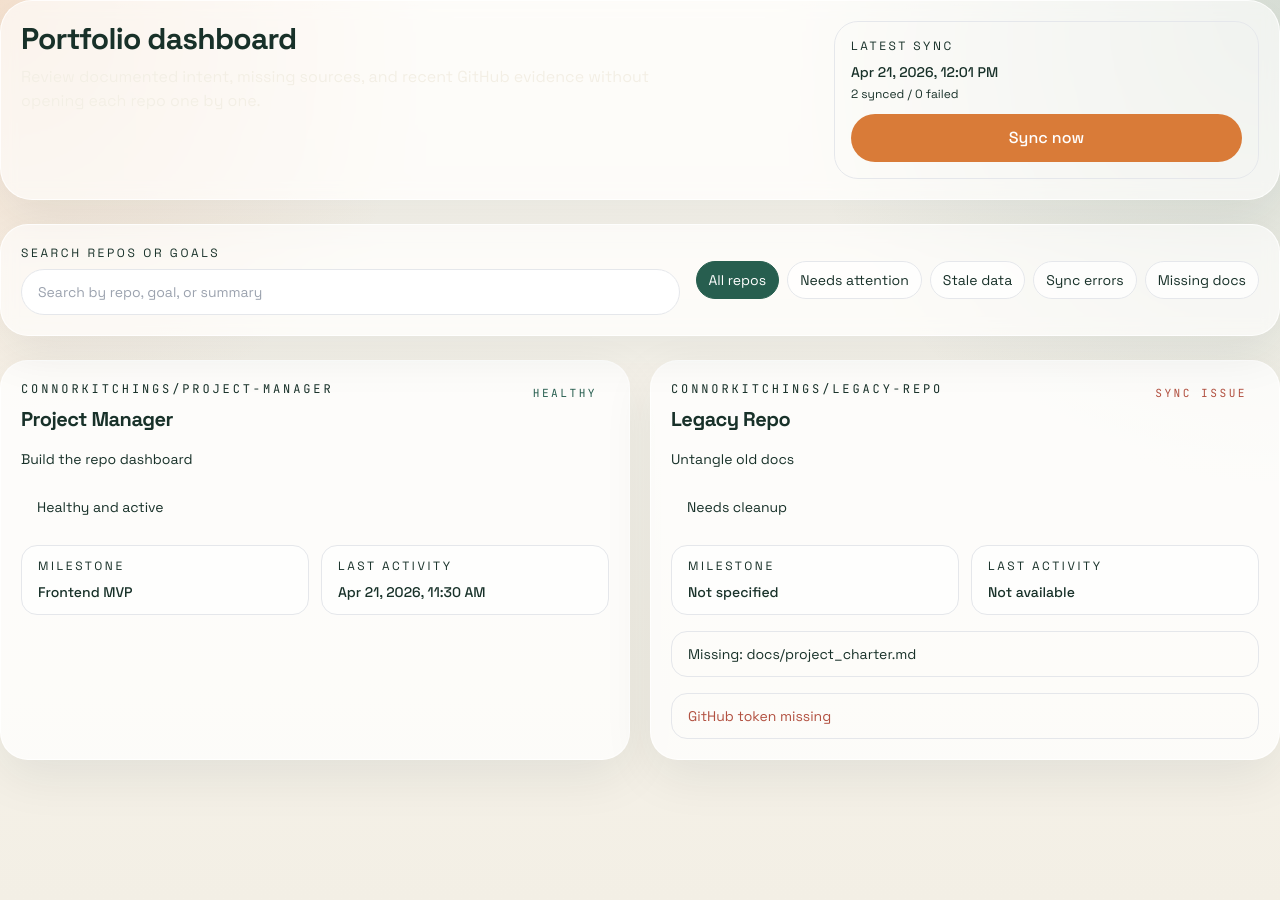
Scenario: DashboardPage › renders repo summaries and filters attention states
Expected: the heading "Project Manager" is shown, [21,406,173,432]
Expected: the heading "Legacy Repo" is shown, [671,406,790,432]
What coordinates should you click on to do the following:
click the button "Needs attention"
I would click on:
 (854, 280)
Its box is [787,261,922,299].
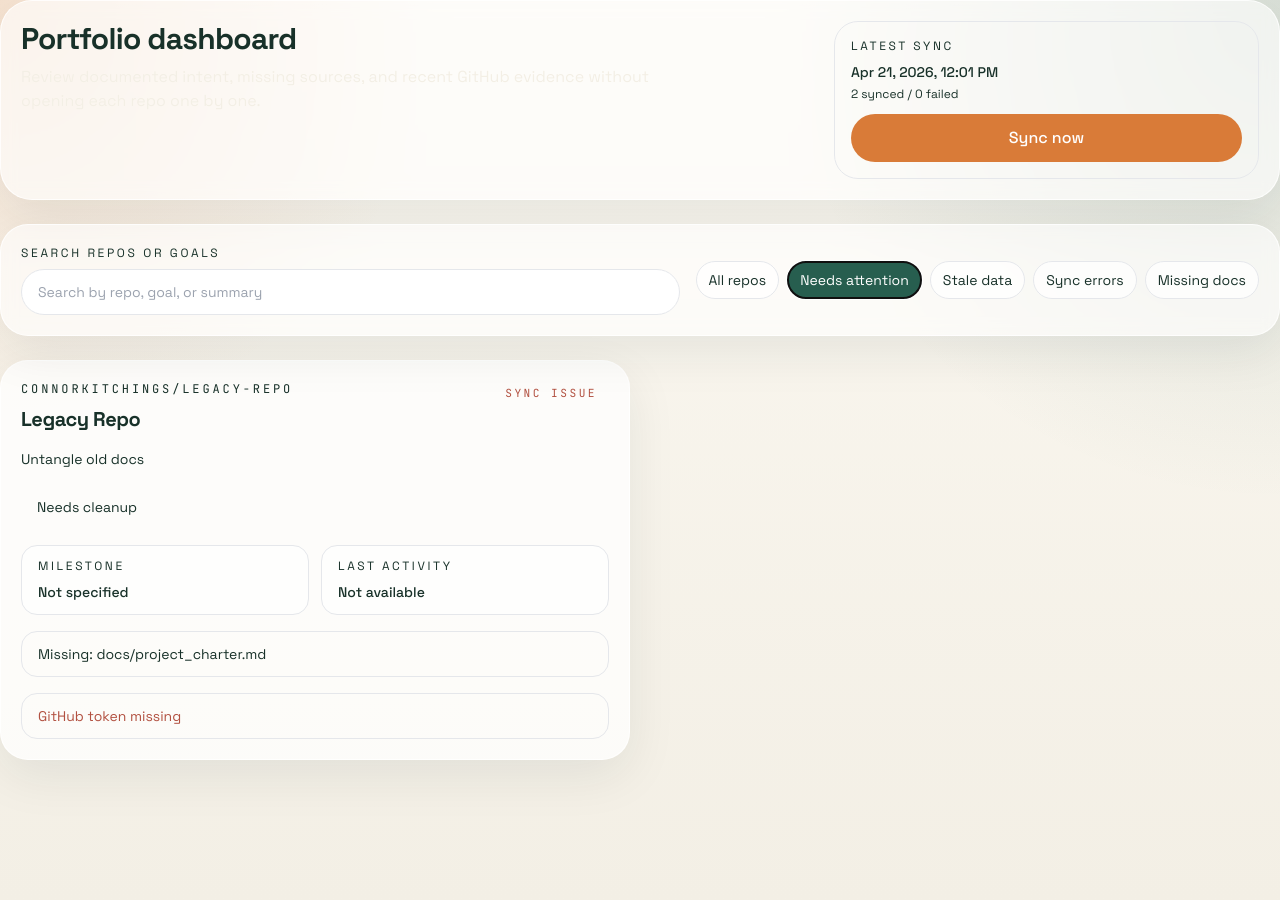
Expected: the heading "Legacy Repo" is shown, [21,406,140,432]
Result: the link "Healthy and active" is gone
